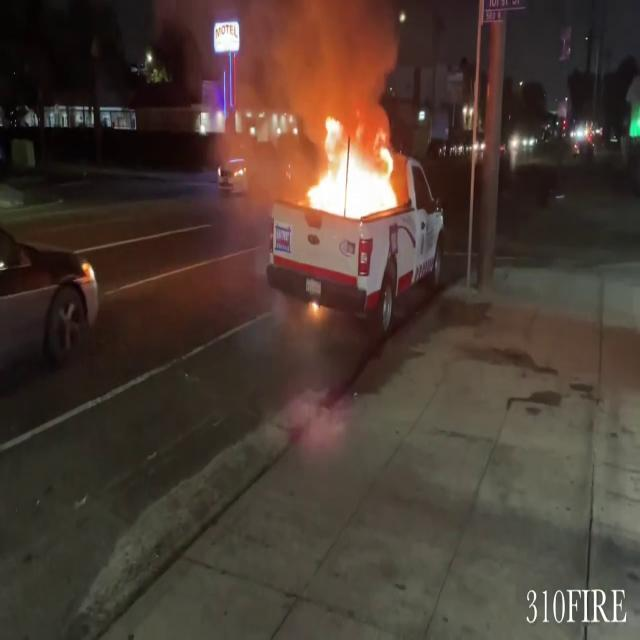Fire: (298, 111, 406, 221)
Smoke: (194, 0, 410, 112)
